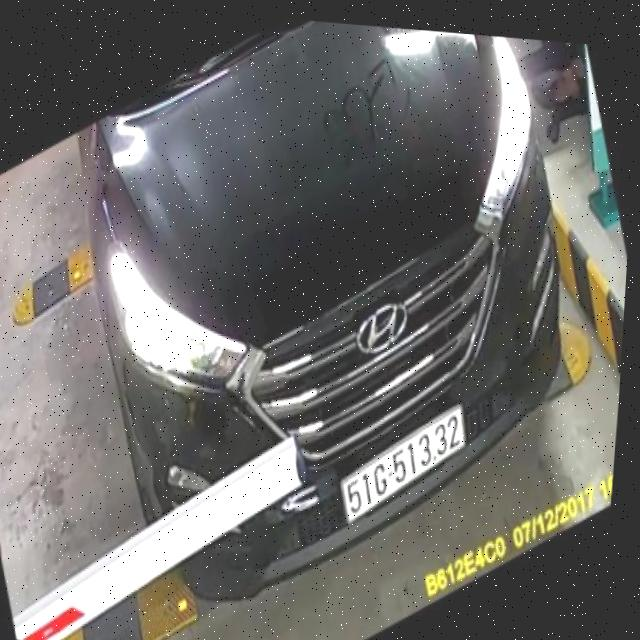car: (36, 5, 591, 634)
plate: (336, 394, 472, 532)
